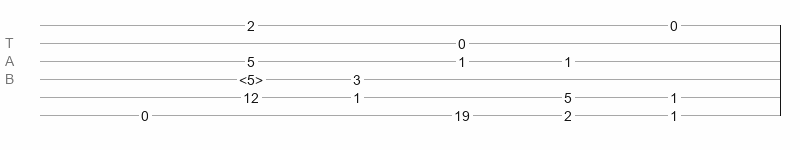0: (141, 108, 149, 118), (458, 36, 466, 46), (670, 18, 678, 28)
1: (353, 90, 361, 100), (458, 54, 466, 64), (564, 54, 572, 64), (670, 108, 678, 118), (670, 90, 678, 100)
12: (243, 90, 259, 100)
19: (454, 108, 470, 118)
2: (247, 18, 255, 28), (564, 108, 572, 118)
3: (353, 72, 361, 82)
5: (247, 54, 255, 64), (564, 90, 572, 100)
harmonic: (239, 72, 263, 82)
